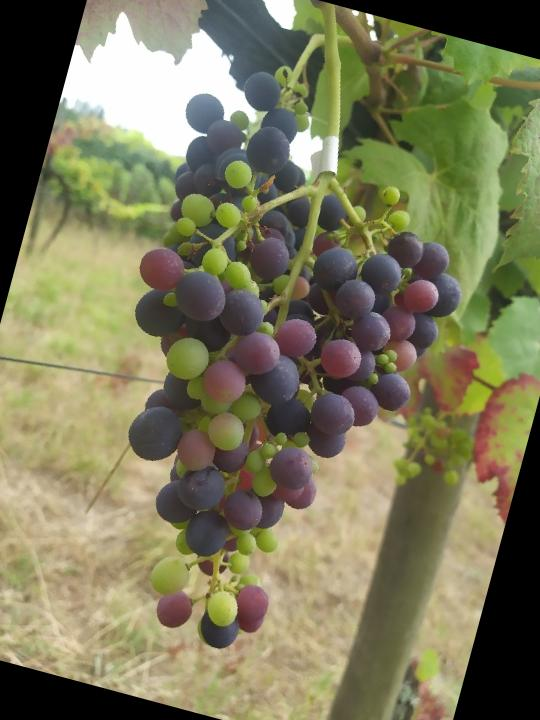grape: (46, 50, 509, 690)
